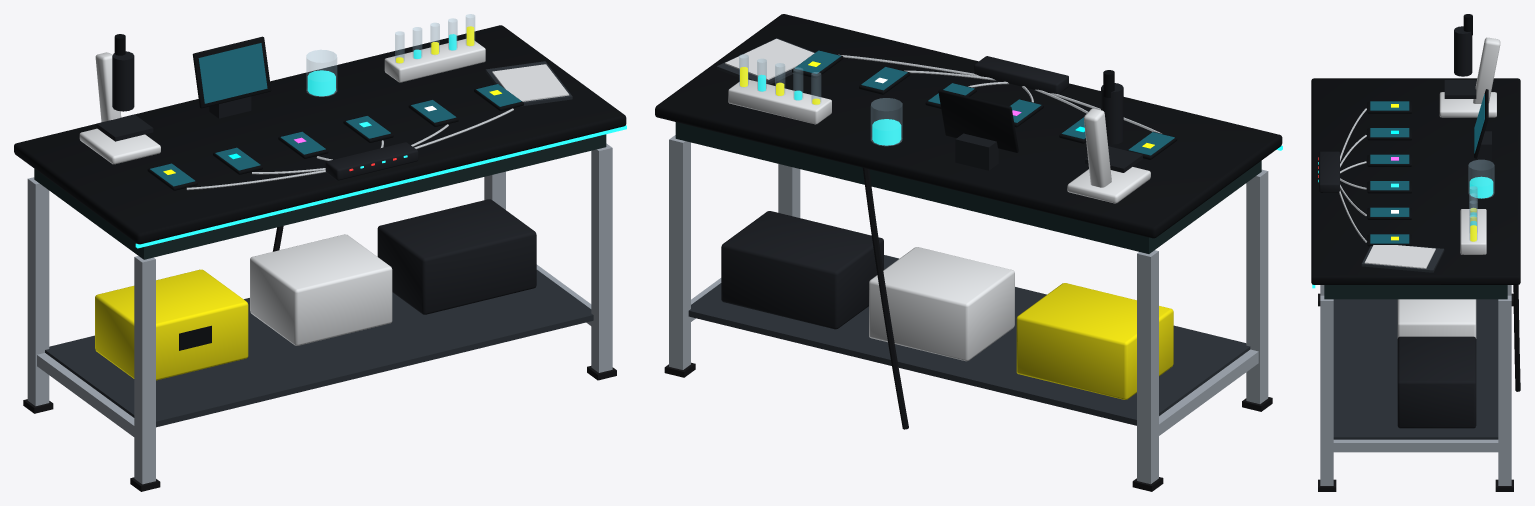
The model's file is lab_table.glb.
The picture shows the model from 3 angles, left to right: view 1: azimuth 30°, elevation 25°; view 2: azimuth 150°, elevation 25°; view 3: azimuth 270°, elevation 25°; orthographic projection. The views are drawn at different scales.
Visible parts, largest first — view 1: Body; view 2: Body; view 3: Body.
Part boxes in pixels (left/top/right/bottom): Body: left=14, top=14, right=626, bottom=491; Body: left=655, top=14, right=1282, bottom=491; Body: left=1311, top=14, right=1520, bottom=491.
Bounding box in the file's own units: 1.8 × 1.31 × 0.8.
